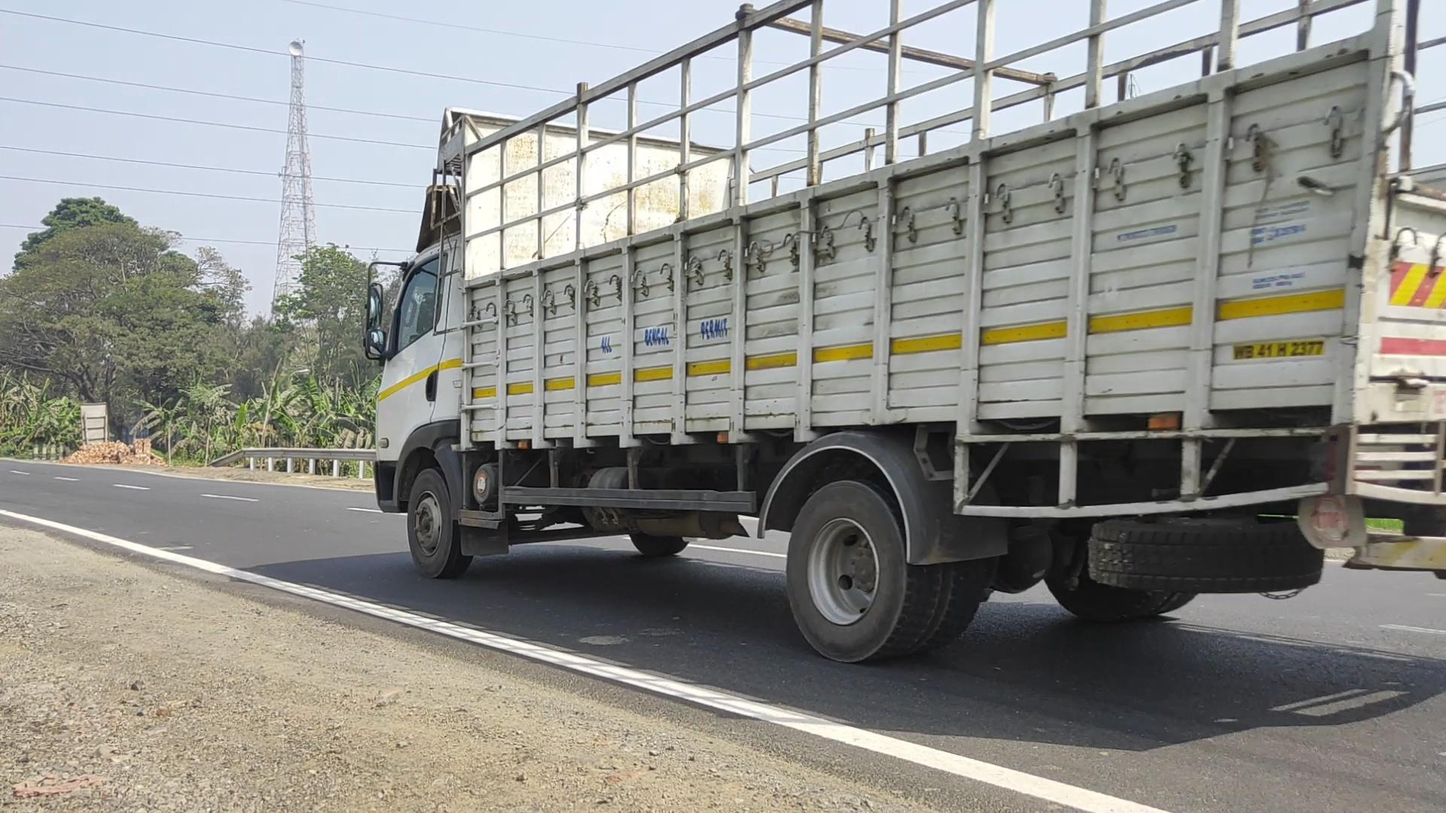van: (363, 2, 1446, 665)
